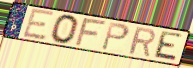E: (22, 7, 56, 42), (151, 30, 184, 64)
F: (73, 17, 109, 47)
O: (50, 14, 80, 45)
P: (100, 21, 131, 52)
R: (127, 26, 156, 59)
